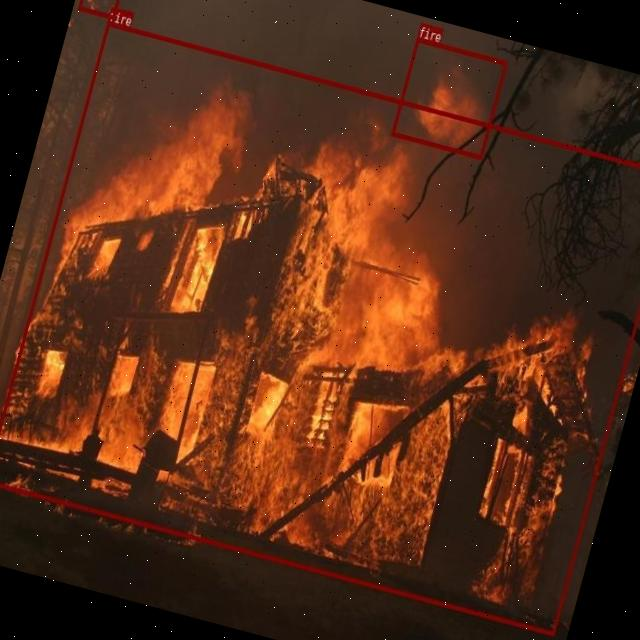fire: (0, 21, 640, 634), (390, 36, 508, 158), (77, 0, 125, 19)
